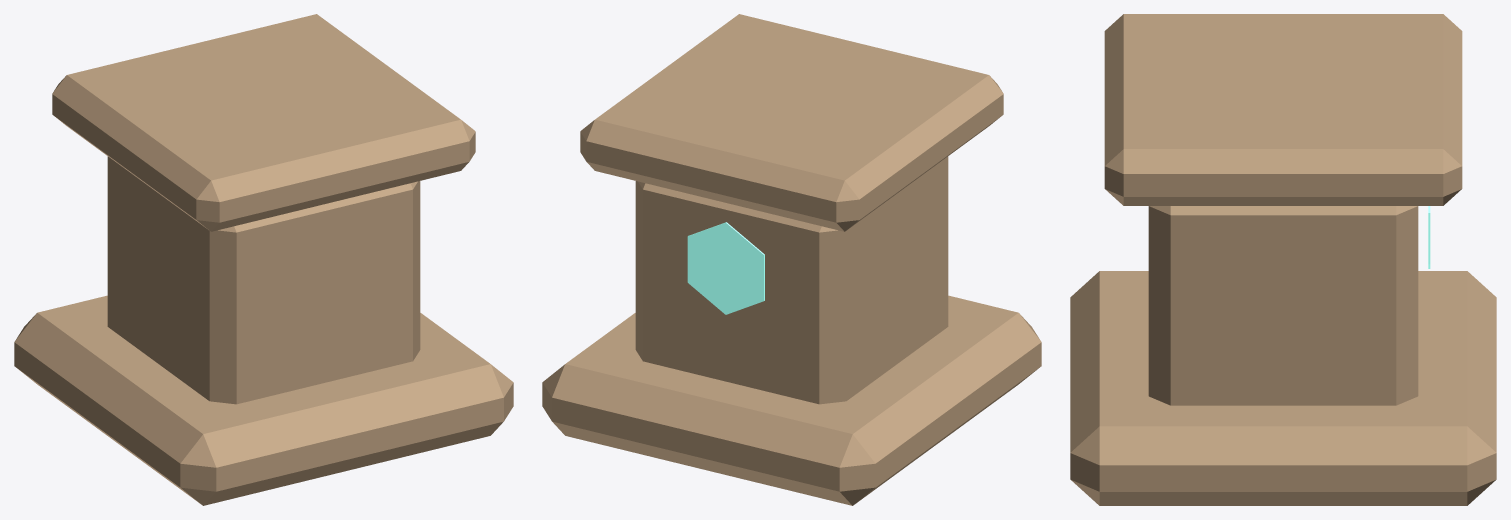
The model's file is totem_dominio.glb.
3 renders of one model, left to right at view 1: azimuth 30°, elevation 25°; view 2: azimuth 150°, elevation 25°; view 3: azimuth 270°, elevation 25°, orthographic. The views are drawn at different scales.
Parts seen in each view (by area): view 1: deserto_totem_dominio; view 2: deserto_totem_dominio; view 3: deserto_totem_dominio.
Boxes of the visible parts, bbox=[...] form: deserto_totem_dominio: bbox=[14, 14, 513, 505]; deserto_totem_dominio: bbox=[542, 14, 1041, 505]; deserto_totem_dominio: bbox=[1070, 14, 1496, 505].
Bounding box in the file's own units: 0.68 × 0.61 × 0.68.
